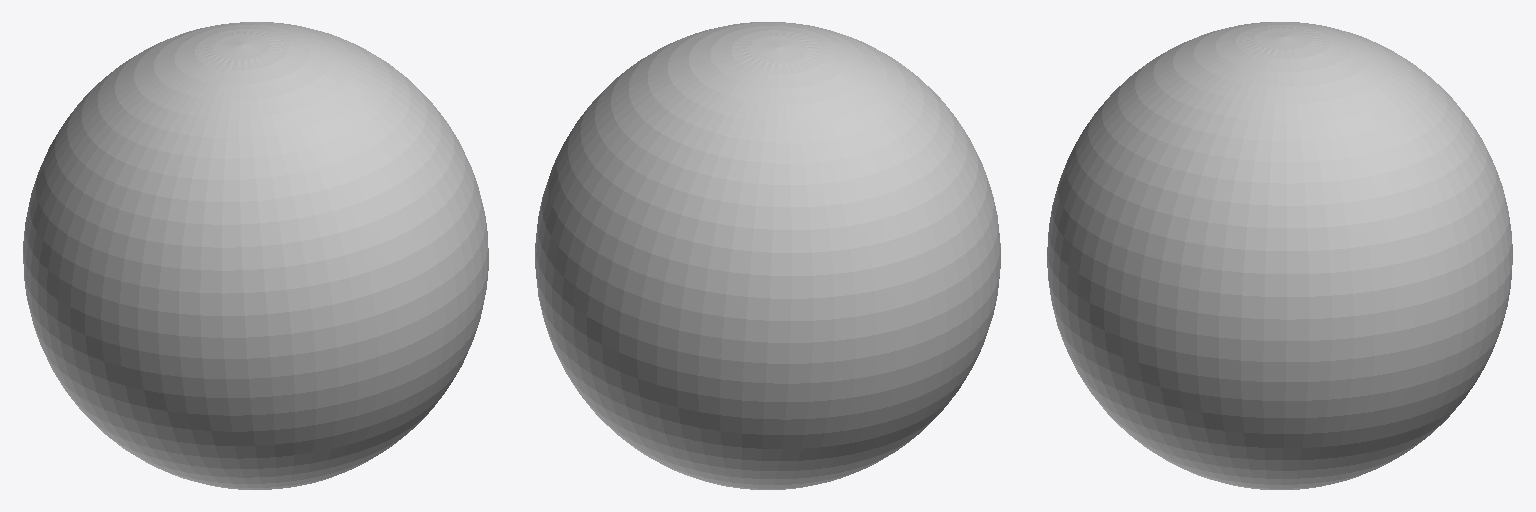
File: sunflare.obj
The picture shows the model from 3 angles: view 1: azimuth 30°, elevation 25°; view 2: azimuth 150°, elevation 25°; view 3: azimuth 270°, elevation 25°; orthographic projection.
Parts seen in each view (by area): view 1: Sphère_Sphère.001; view 2: Sphère_Sphère.001; view 3: Sphère_Sphère.001.
Boxes of the visible parts, box(x1,y1,x2,y2) form: Sphère_Sphère.001: box(23, 22, 488, 489); Sphère_Sphère.001: box(535, 22, 1000, 489); Sphère_Sphère.001: box(1047, 22, 1512, 489).
Bounding box in the file's own units: 3.47 × 3.51 × 3.48.